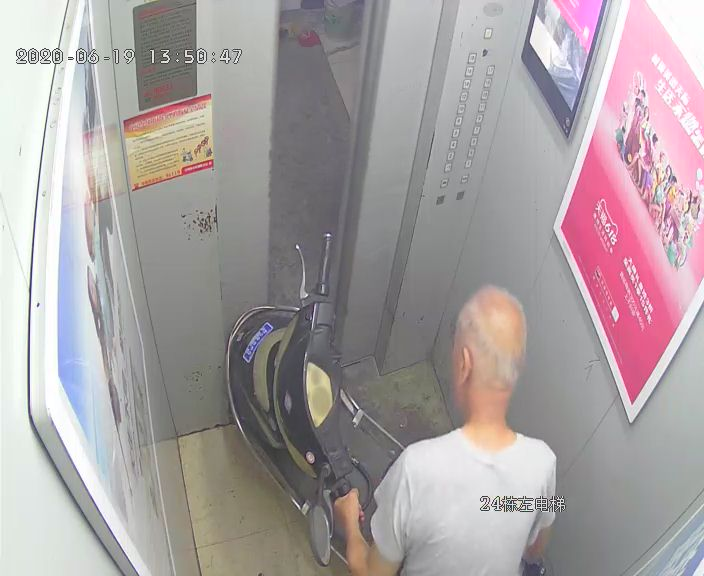Electric-bicycle: (224, 230, 532, 571)
